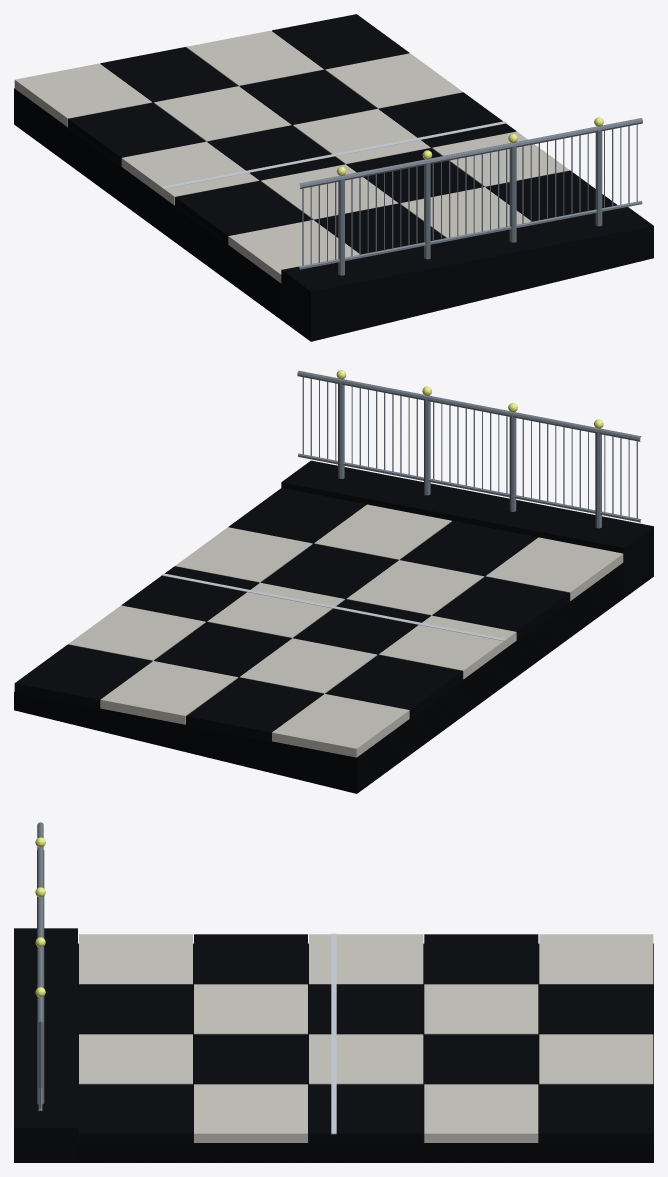
The model's file is v1_ramp.glb.
3 views of the same model, one above another, from view 1: azimuth 30°, elevation 25°; view 2: azimuth 150°, elevation 25°; view 3: azimuth 270°, elevation 25° (orthographic). The views are drawn at different scales.
Visible parts, largest first — view 1: Pavers_B, Pavers_A, Ramp_Kerb, Guard_Frame, Ramp_Body, Court_Lines; view 2: Pavers_A, Pavers_B, Ramp_Body, Ramp_Kerb, Guard_Frame, Court_Lines; view 3: Pavers_B, Pavers_A, Ramp_Kerb, Ramp_Body, Guard_Frame, Court_Lines.
Part boxes in pixels (left/top/right/bottom): Pavers_B: left=68, top=14, right=617, bottom=254; Pavers_A: left=14, top=30, right=569, bottom=283; Ramp_Kerb: left=281, top=207, right=653, bottom=341; Guard_Frame: left=299, top=118, right=642, bottom=275; Ramp_Body: left=14, top=88, right=281, bottom=319; Court_Lines: left=161, top=121, right=506, bottom=189; Pavers_A: left=68, top=504, right=623, bottom=757; Pavers_B: left=14, top=488, right=569, bottom=740; Ramp_Body: left=14, top=562, right=624, bottom=793; Ramp_Kerb: left=281, top=460, right=653, bottom=597; Guard_Frame: left=297, top=370, right=641, bottom=528; Court_Lines: left=161, top=573, right=506, bottom=641; Pavers_B: left=79, top=934, right=653, bottom=1142; Pavers_A: left=79, top=934, right=653, bottom=1142; Ramp_Kerb: left=14, top=928, right=77, bottom=1162; Ramp_Body: left=78, top=943, right=653, bottom=1162; Guard_Frame: left=37, top=822, right=44, bottom=1111; Court_Lines: left=331, top=933, right=336, bottom=1134.
Size of what is drawn, in the model's own units: 4 by 1.73 by 6.
Materials: 6 (4 with a texture image).
